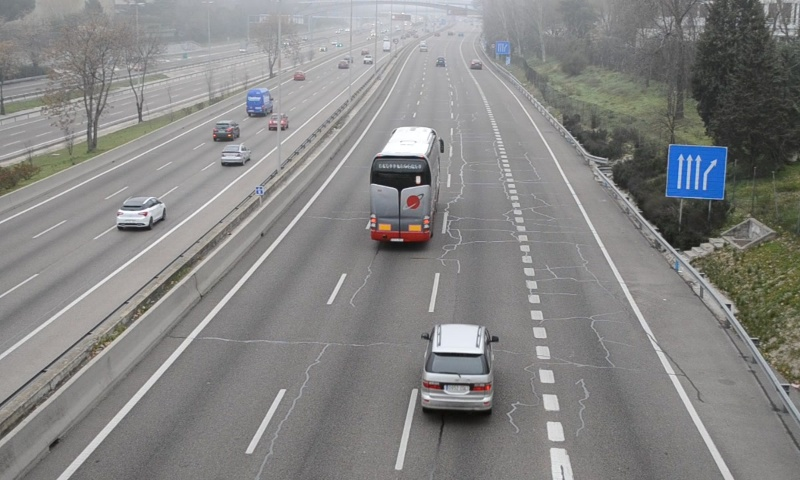bus: (368, 127, 442, 244)
car: (420, 324, 496, 413), (468, 58, 483, 70)
